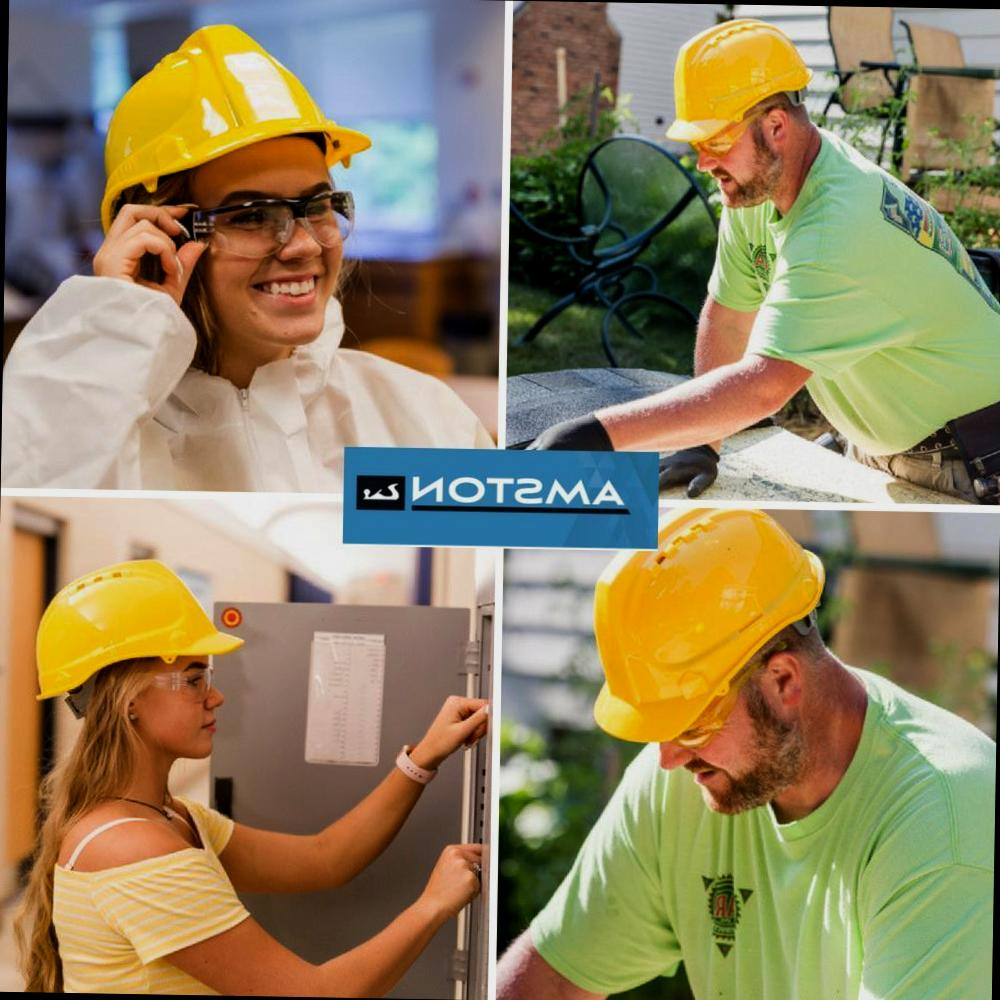helmet: (586, 514, 842, 740), (91, 19, 370, 212), (9, 548, 252, 732), (641, 21, 817, 152)
no_vest: (684, 137, 991, 454)
person: (568, 509, 983, 1000), (10, 14, 397, 504), (649, 8, 1000, 471), (0, 546, 273, 994)
